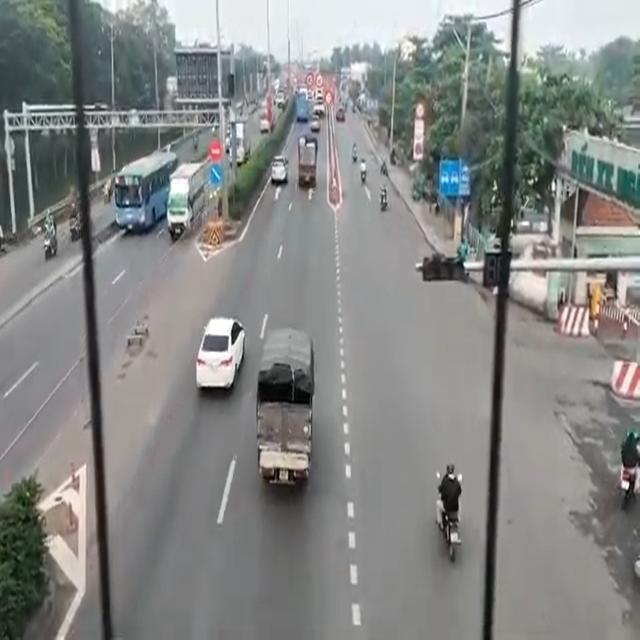bus: (114, 151, 174, 223)
car: (198, 319, 234, 386), (268, 153, 290, 185)
motor: (438, 485, 465, 556)
truck: (259, 326, 317, 497), (169, 165, 199, 245), (300, 133, 316, 199)
